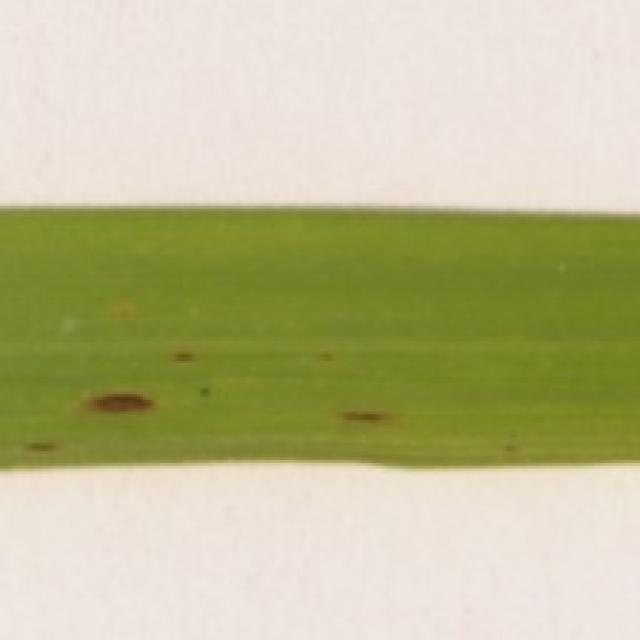Rice___Brown_Spot: (0, 205, 637, 471)
